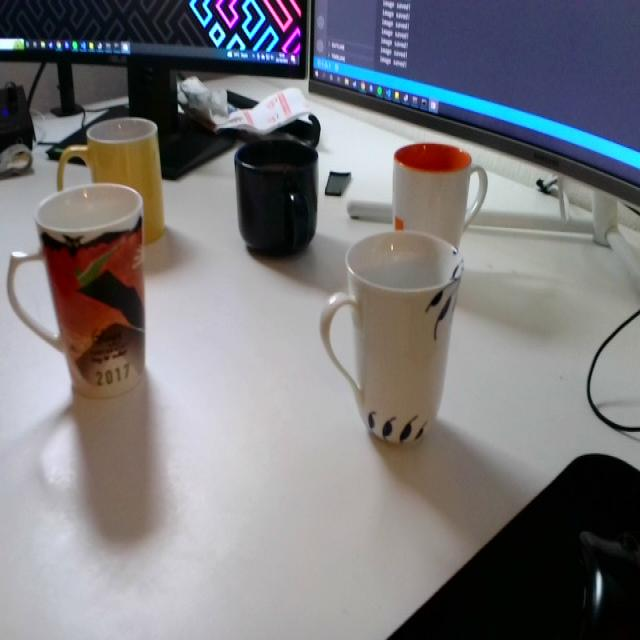Cocio Cup: (63, 115, 168, 245)
Cup: (232, 138, 318, 257)
Halloween cup: (32, 182, 146, 401)
Hand painted cup: (318, 226, 466, 452)
White Cup: (392, 142, 488, 248)
